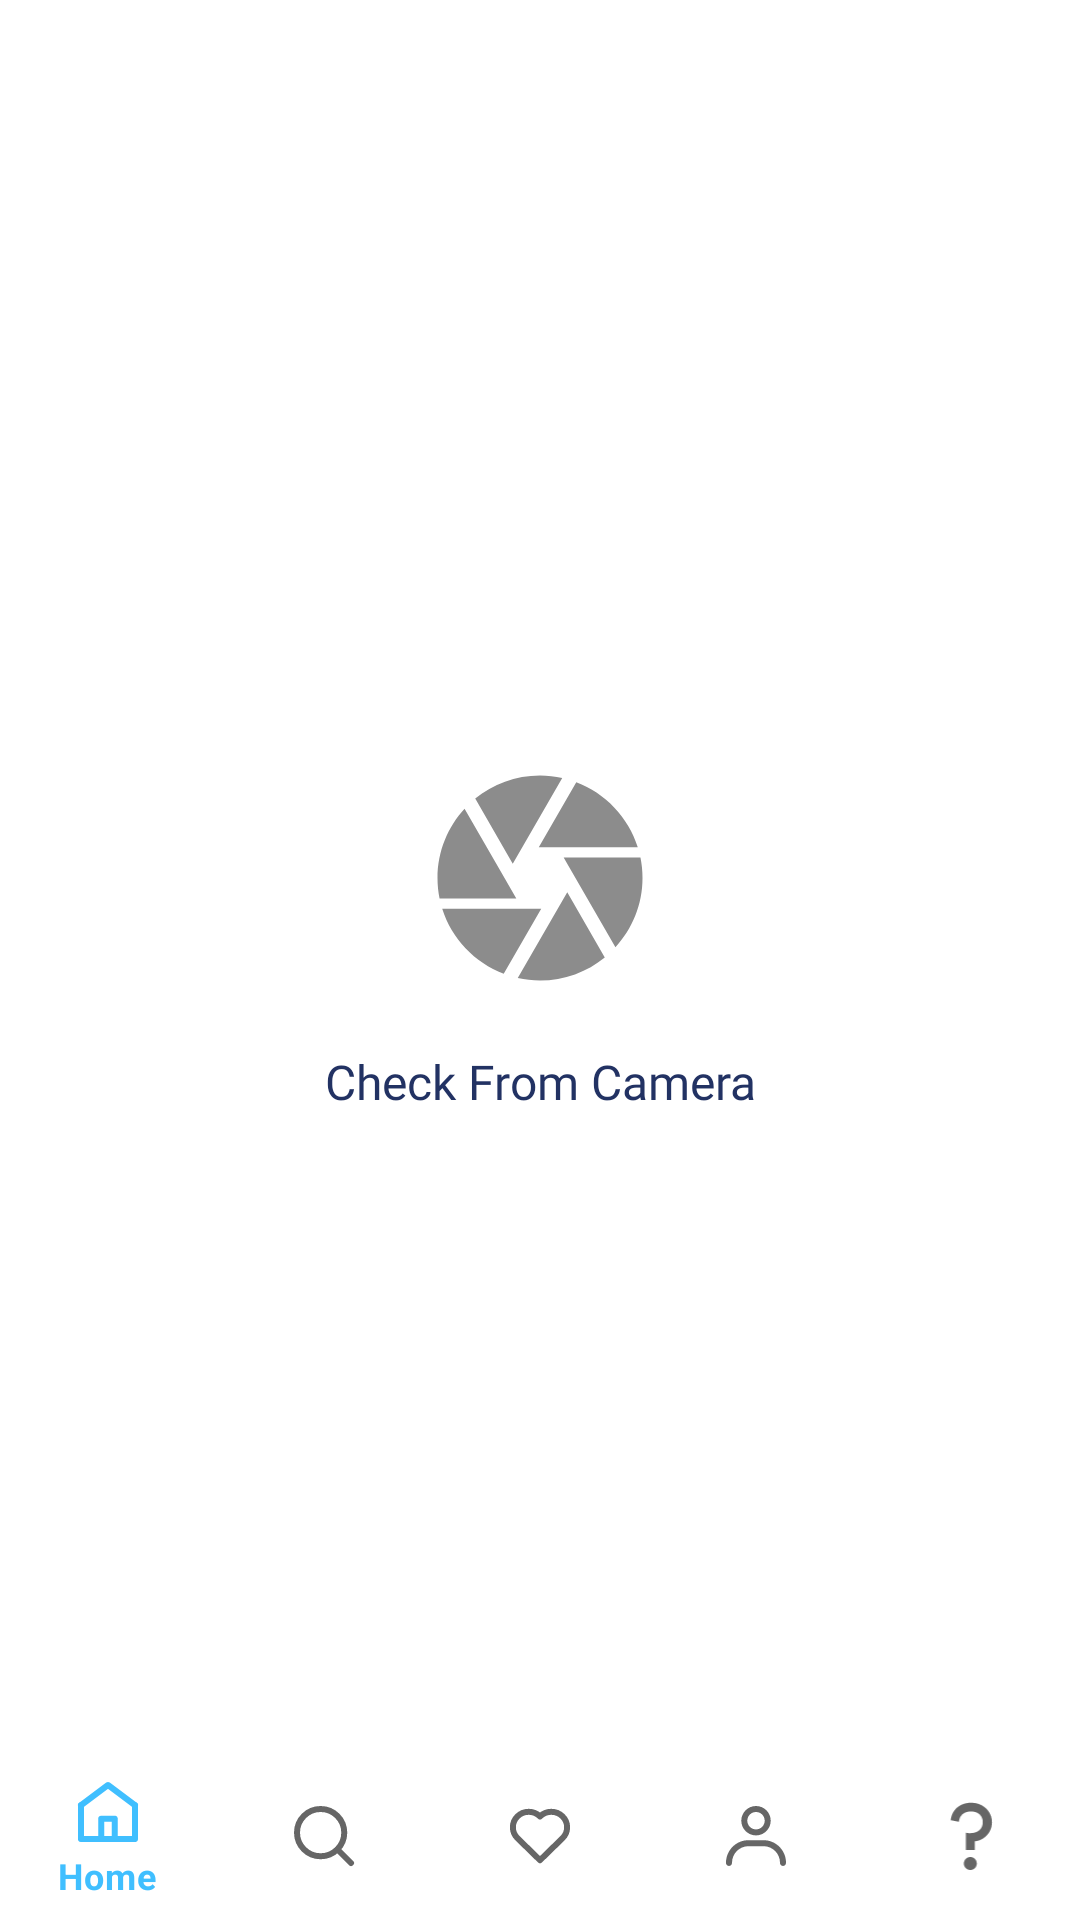

Point at icon controls on the screen. Image size 1080 x 1920, points as [x,y].
Open Camera: [540,878]
